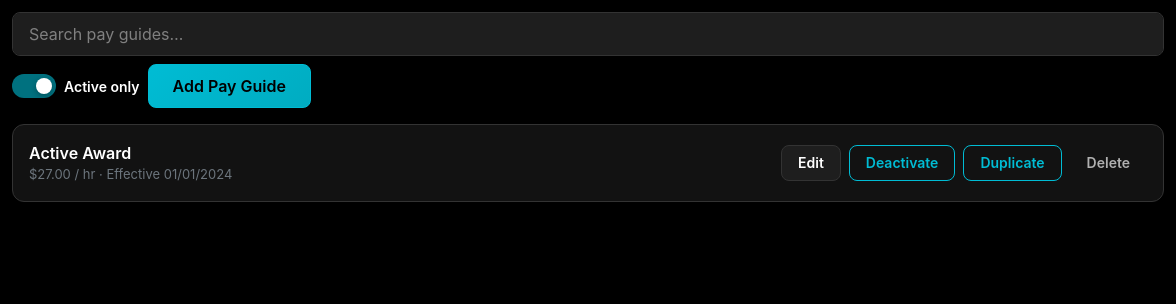
Test: PayGuidesList › toggles the active filter and refetches all pay guides
This screenshot has width=1176, height=304.
Expected: the text "Active Award" is shown, [29, 143, 131, 163]
Click the checkbox labelled "Active only". click: (76, 86)
box: [12, 74, 140, 98]
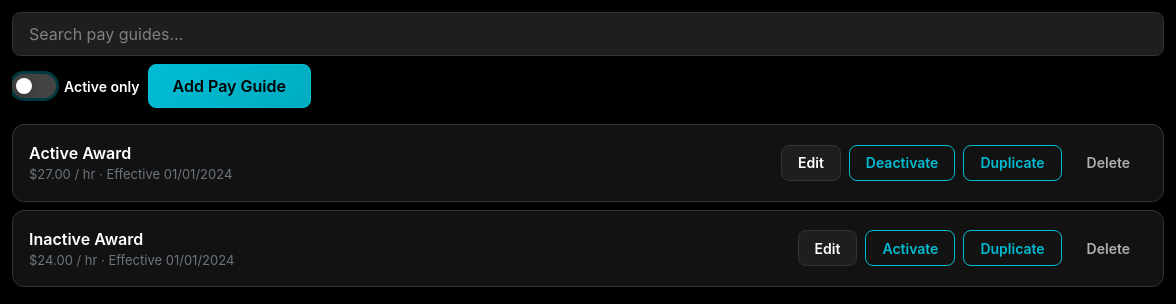
Result: the text "Inactive Award" is shown at [29, 228, 143, 248]
